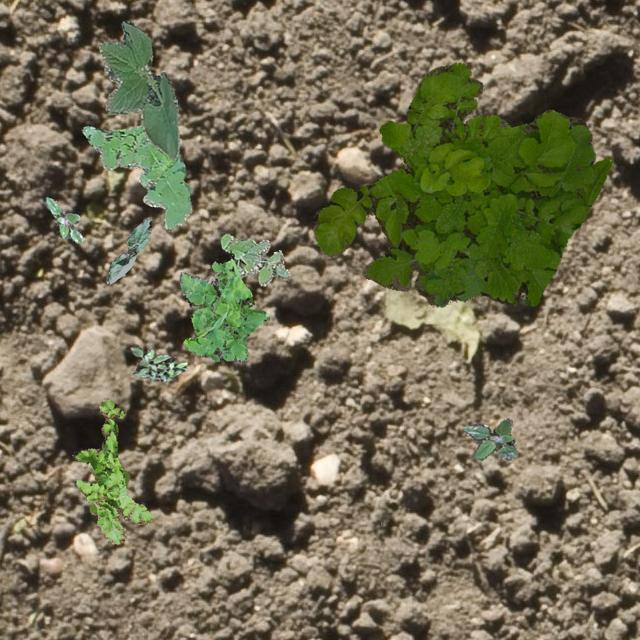crop: (98, 20, 178, 158), (106, 216, 150, 284)
weed: (314, 62, 612, 306), (80, 125, 190, 228), (74, 397, 152, 542), (178, 260, 268, 362), (220, 232, 290, 284), (464, 418, 516, 460), (128, 344, 186, 381), (88, 469, 128, 514), (44, 196, 82, 242)
